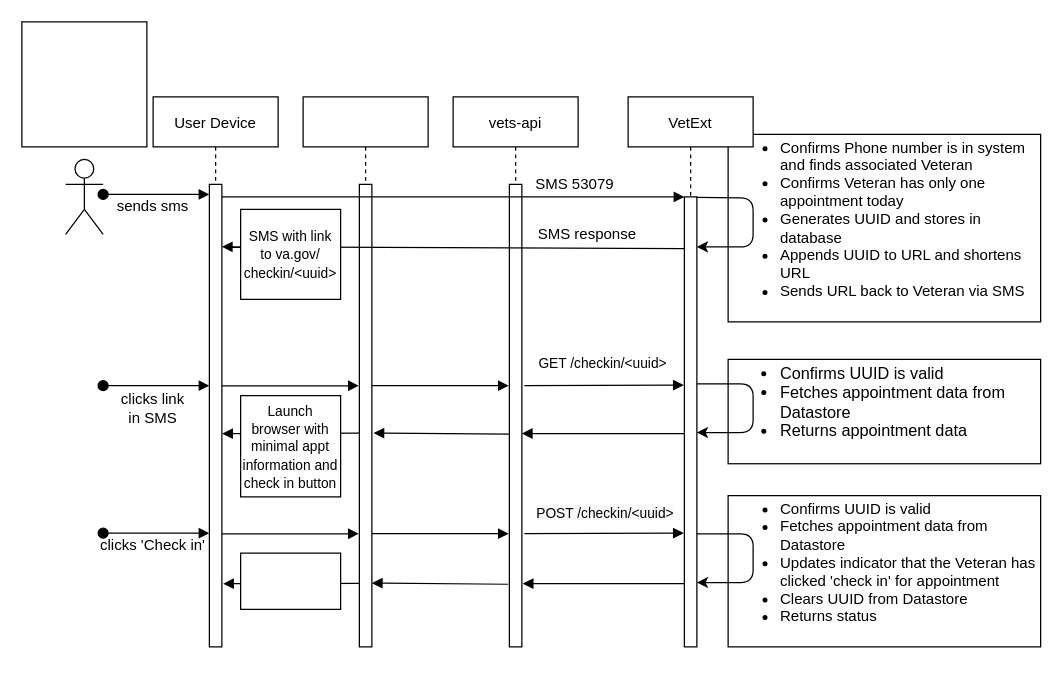
The diagram is 1063 pixels wide and 680 high, and some of its shapes have lost their labels. Each missing label, with the box of its shape:
Display 'Check In' status: (239, 552, 341, 609)
Signage: To check in, please text <siteID> to 53079: (21, 21, 147, 147)
Veteran: (64, 158, 103, 234)
vets-website: (302, 96, 428, 647)
